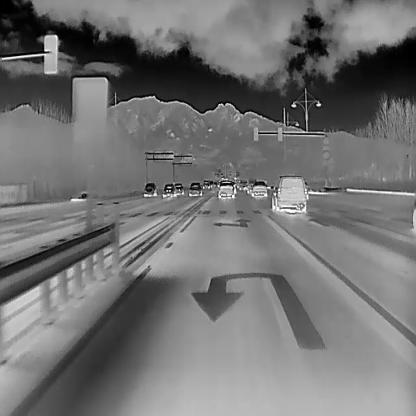car: (270, 174, 307, 212), (218, 179, 234, 198), (251, 180, 267, 197), (187, 180, 202, 196), (161, 182, 176, 197), (143, 180, 157, 196), (174, 181, 184, 195), (247, 179, 256, 193), (238, 178, 246, 189), (202, 178, 209, 189), (211, 180, 217, 186)
